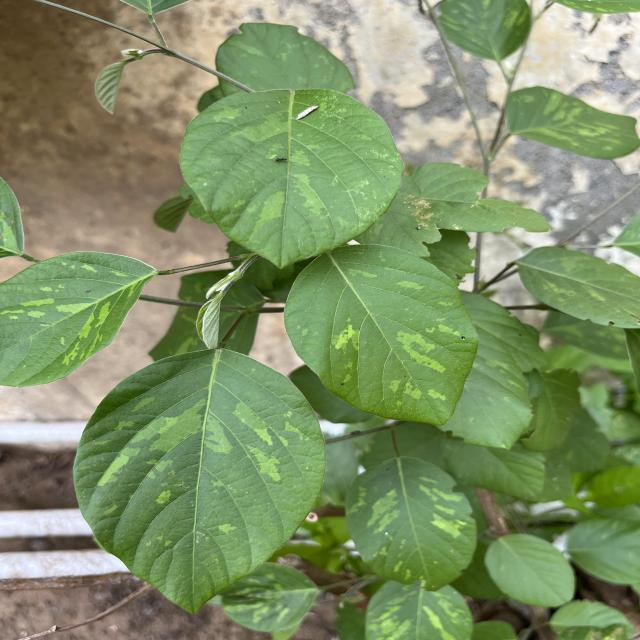Desmodium gangeticum: (70, 343, 330, 618), (176, 85, 406, 271), (279, 242, 483, 429), (0, 248, 159, 388)
